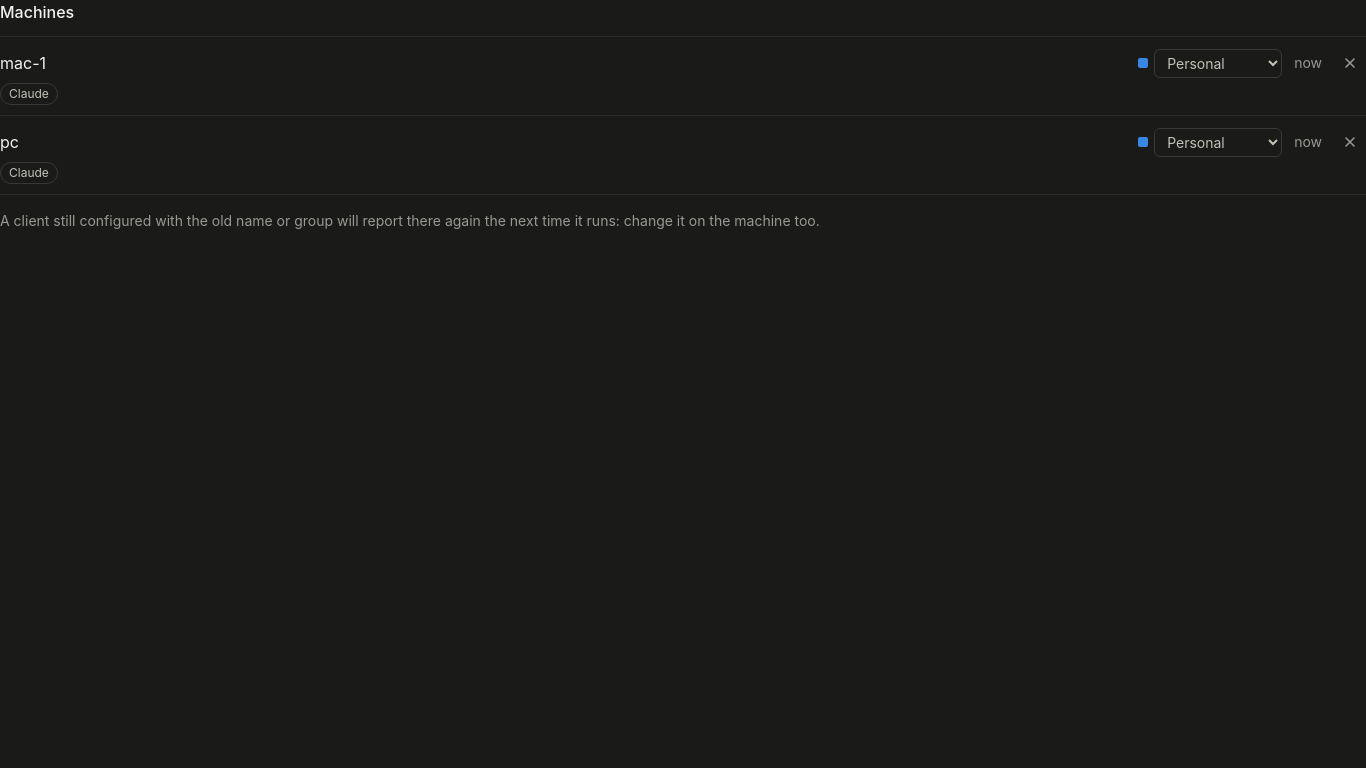
Test case: MachinesSection › asks for the PIN when a merge needs sudo, and carries on with it once unlocked
Click the button "mac-1".
click(23, 63)  # box [0,51,1126,75]
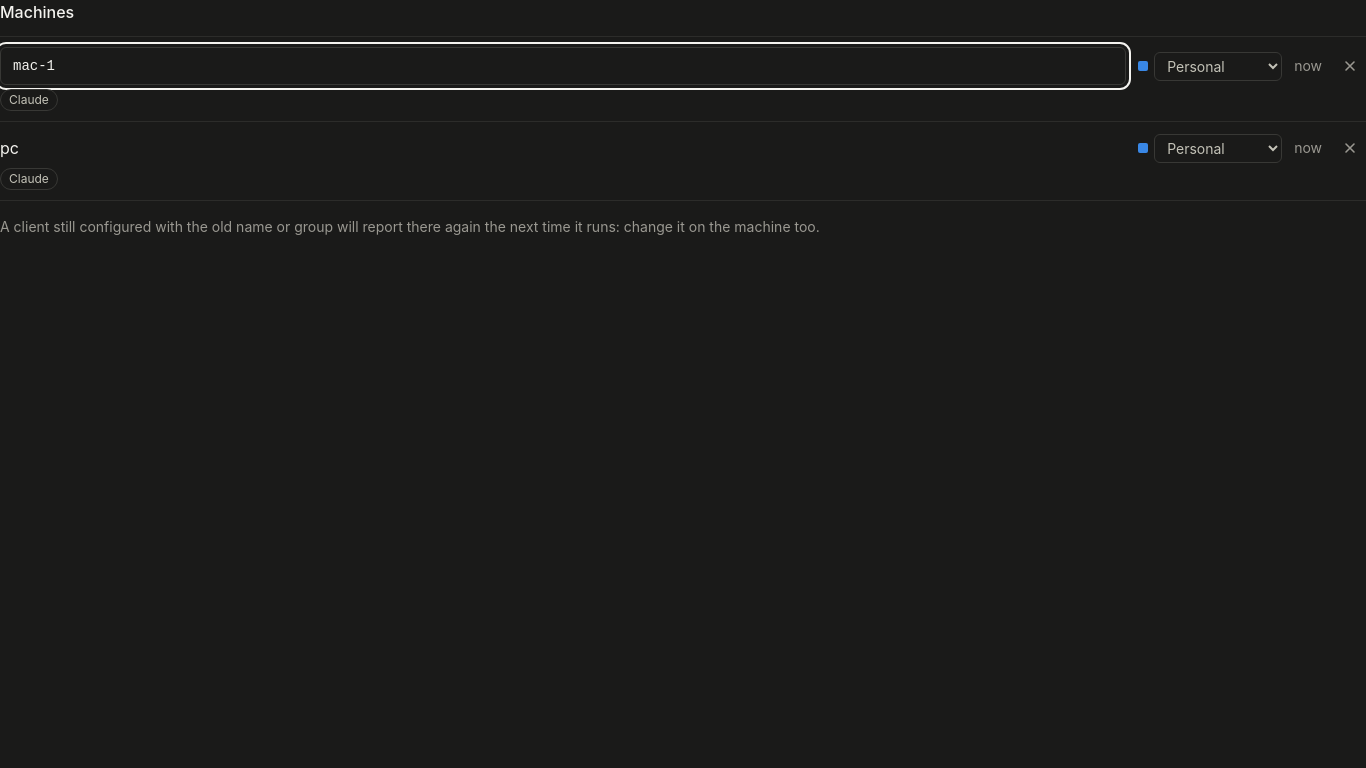
Replace the text in the field named "Rename “mac-1”" with "pc" at (563,66), box [0,47,1126,85]
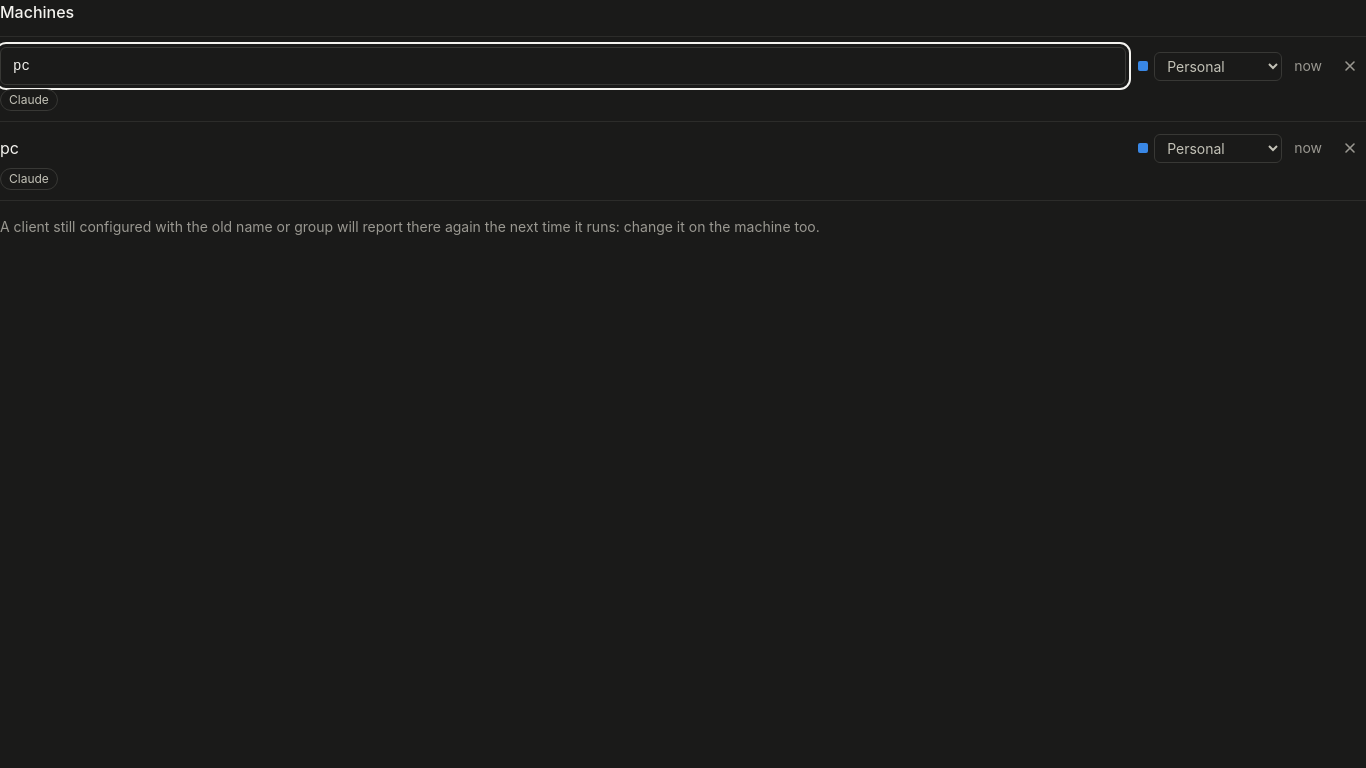
Press Enter in the field named "Rename “mac-1”", box [0,47,1126,85]
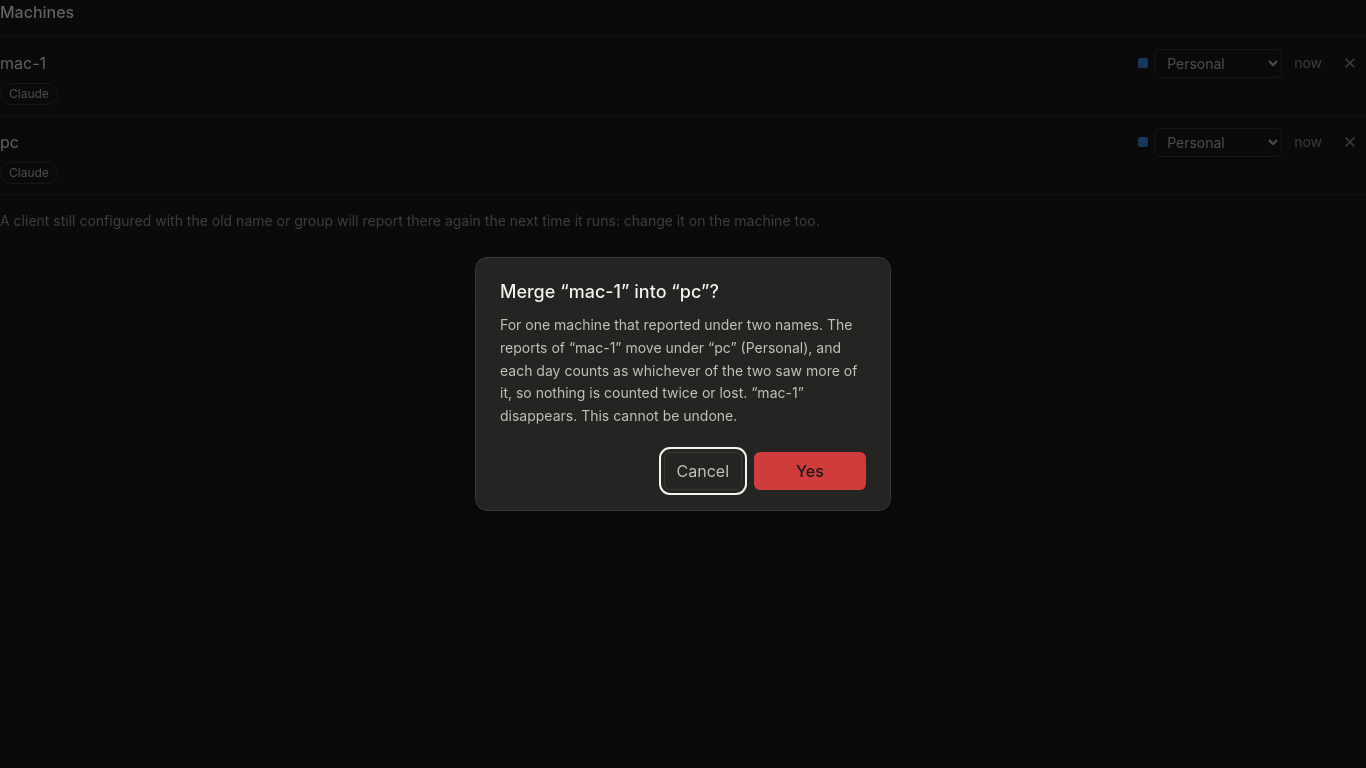
Check: the button "Yes" is enabled
Click the button "Yes".
click(810, 471)  # box [754,452,866,490]
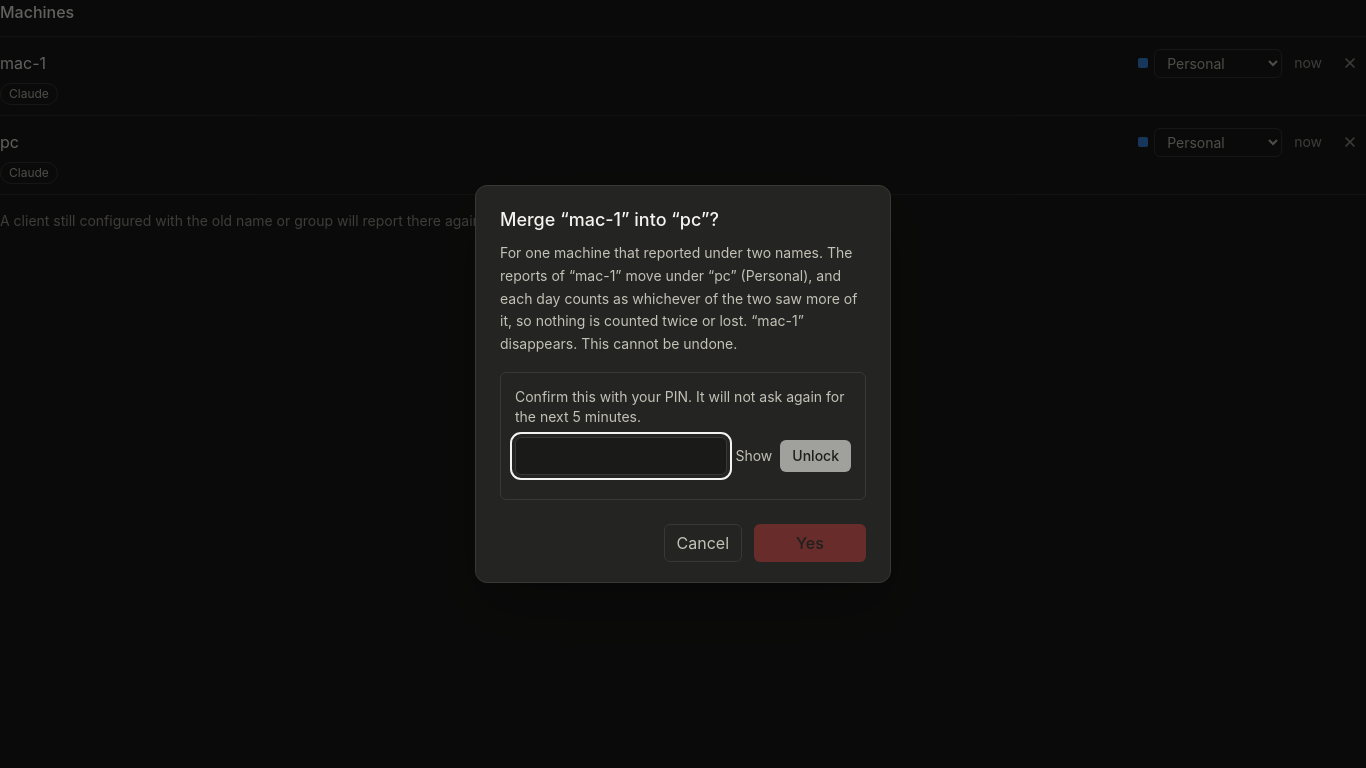
Check: the text "Confirm this with your PIN. It will not ask again for the next 5 minutes." is shown, box [515,387,851,427]
Check: the button "Yes" is disabled, box [754,524,866,562]
Type "12345" into the password field with id "sudo-pin".
click(621, 456); type("12345")  # box [515,437,728,475]
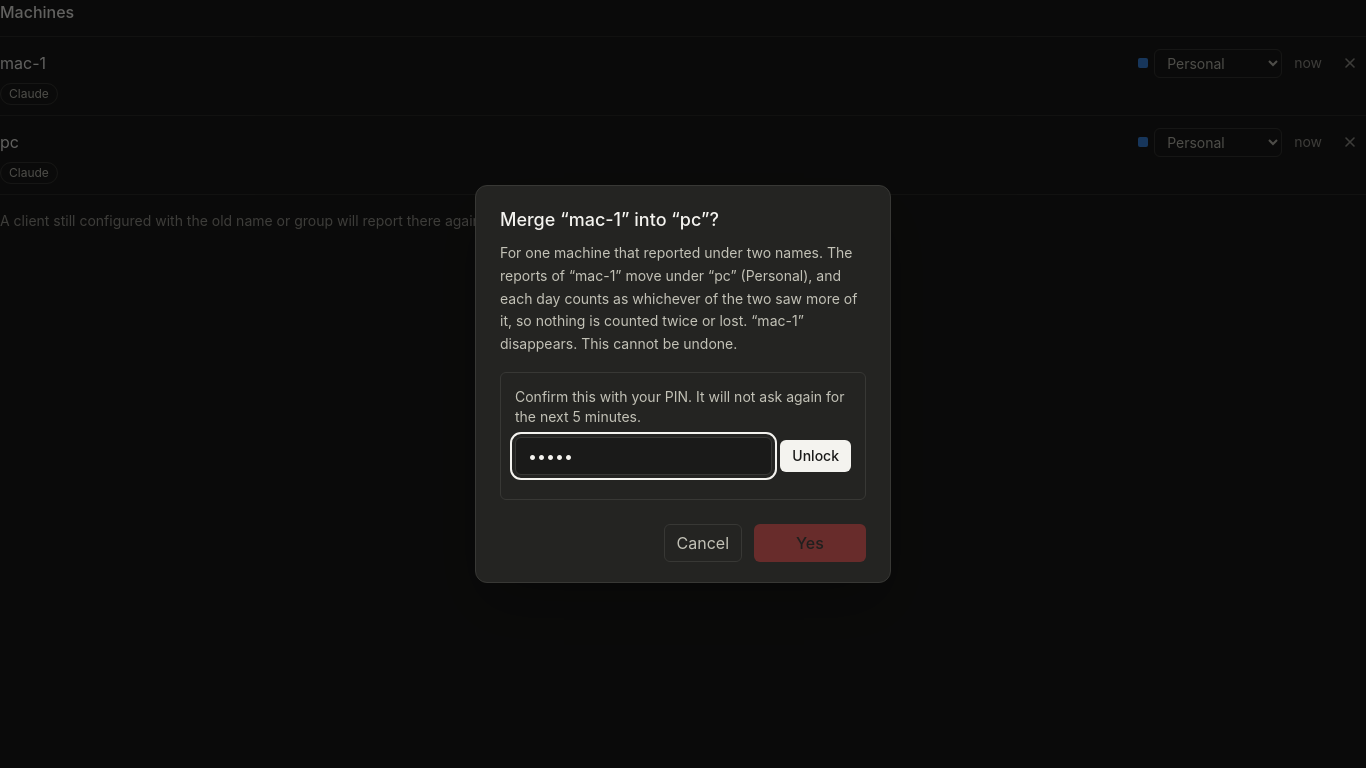
Click the button "Unlock".
click(816, 456)  # box [780,440,851,472]
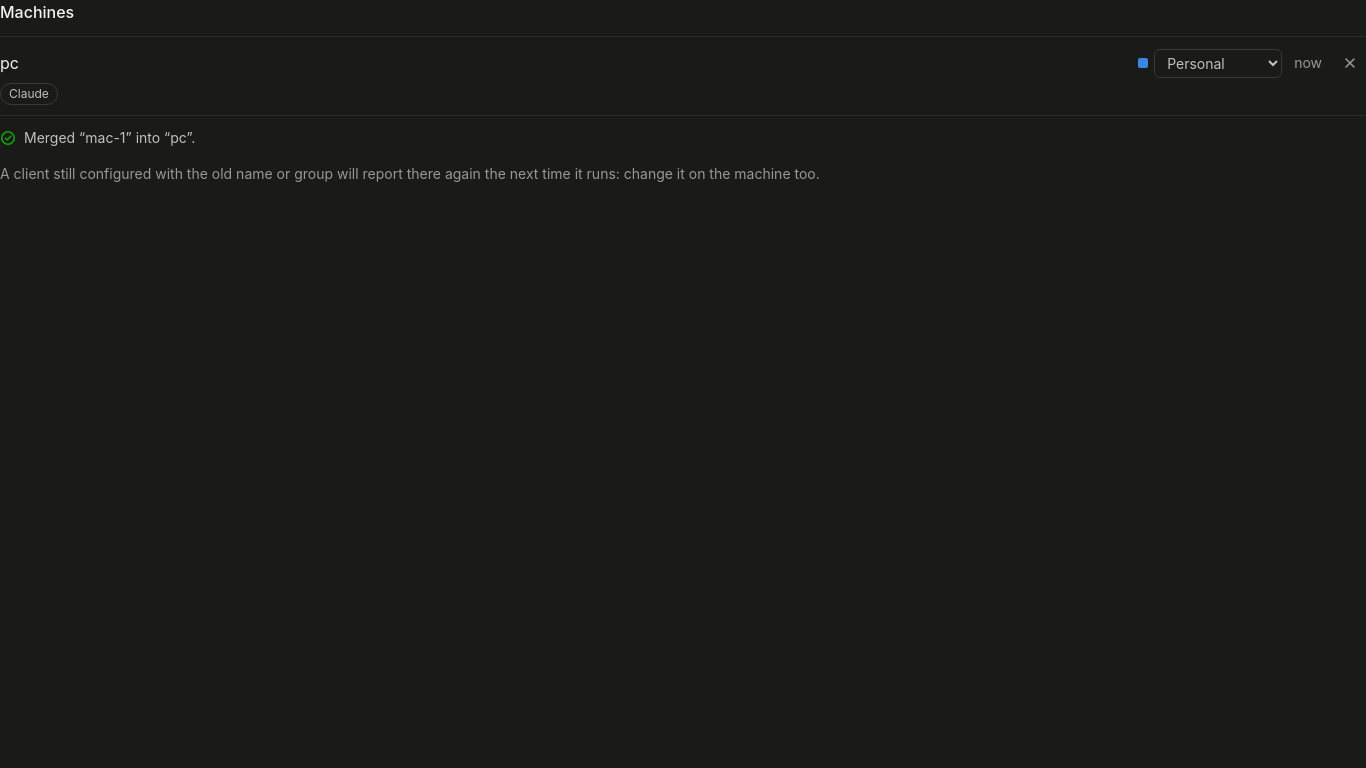
Check: the text "Merged “mac-1” into “pc”." is shown, box [24,128,195,148]
Check: the dialog is gone
